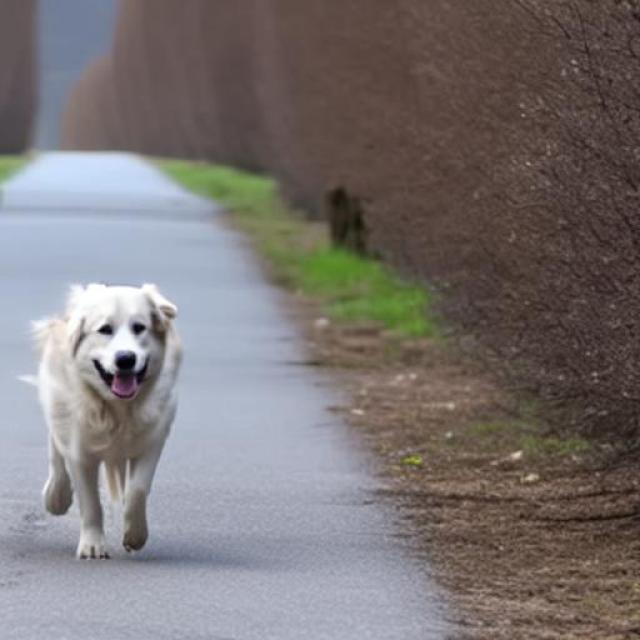Dog: (29, 282, 182, 560)
